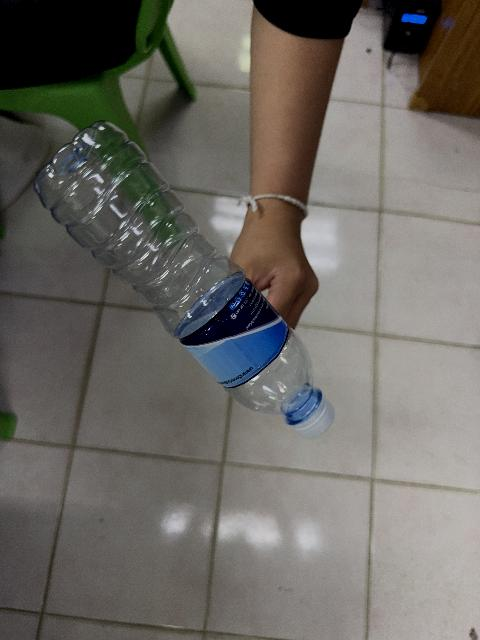bottle: (34, 122, 333, 437)
